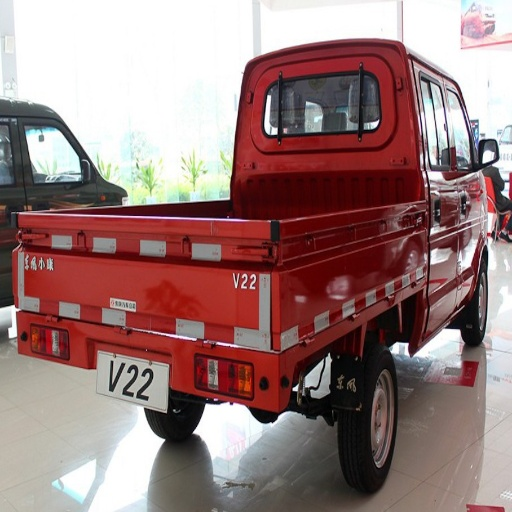trunk: (24, 205, 265, 386), (249, 61, 415, 249)
